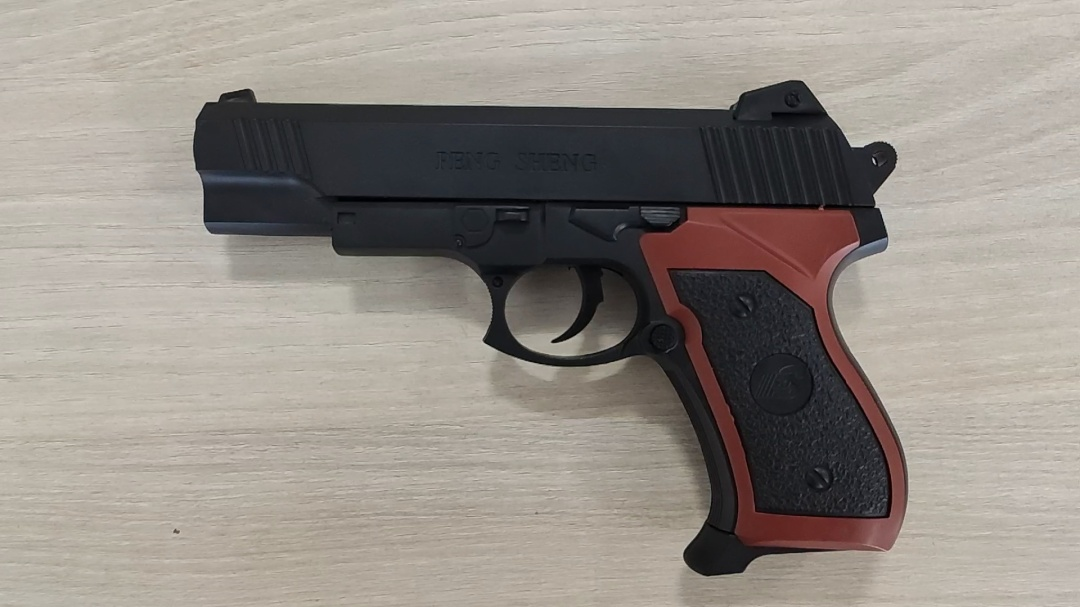gun: (192, 79, 908, 576)
